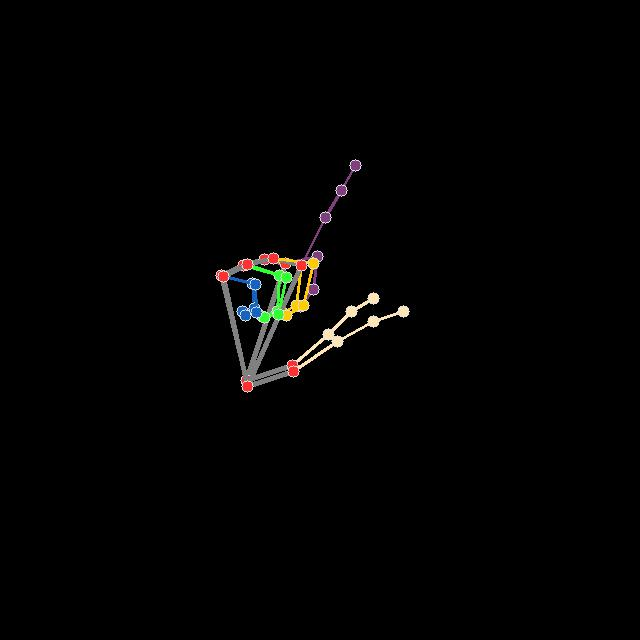gun: (217, 156, 412, 394)
